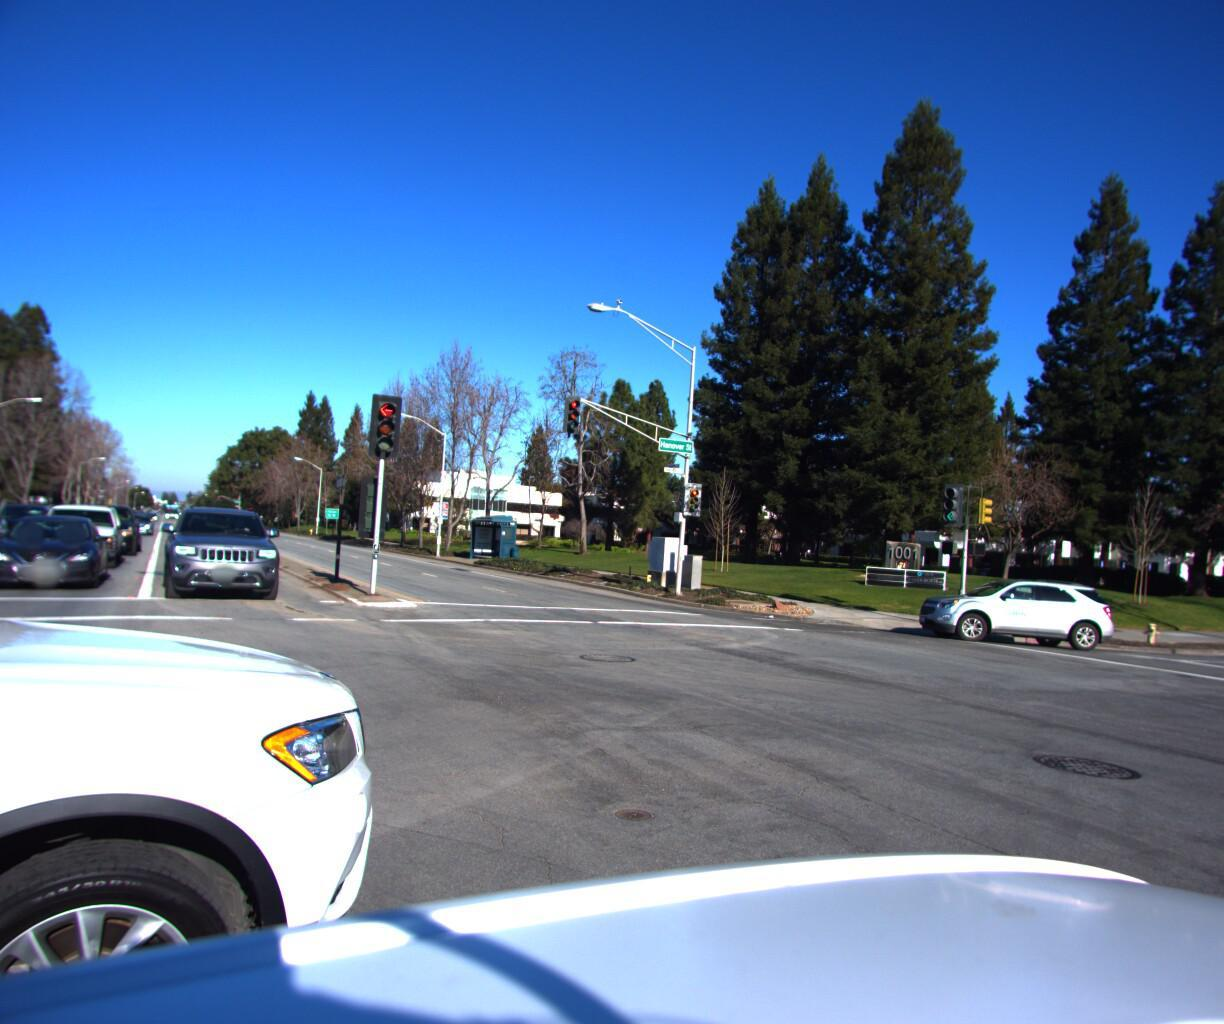car: (0, 0, 538, 1024), (896, 564, 1115, 645), (152, 498, 289, 604), (0, 504, 109, 595), (21, 489, 130, 569), (64, 495, 147, 555), (0, 497, 62, 548), (121, 507, 156, 537), (0, 494, 11, 561)
